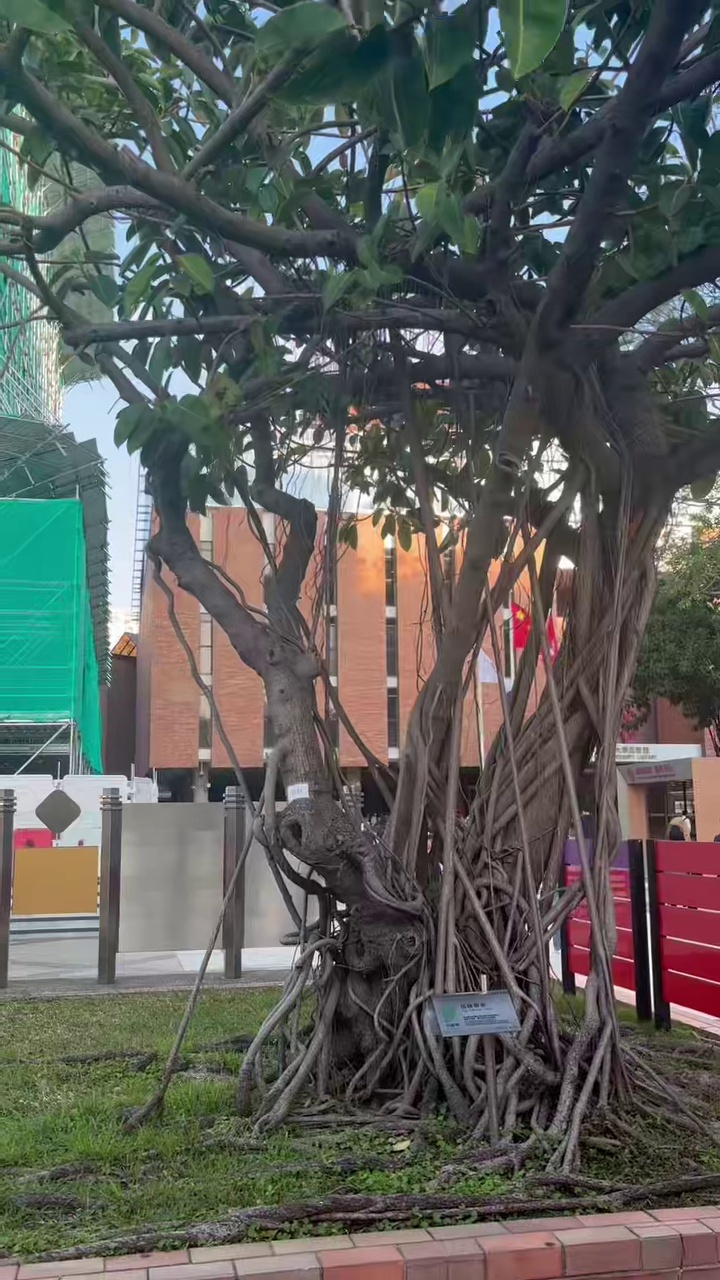Ficus elastica: (0, 0, 719, 1174)
